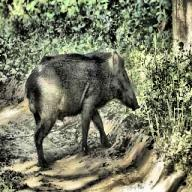boar: (24, 49, 140, 168)
